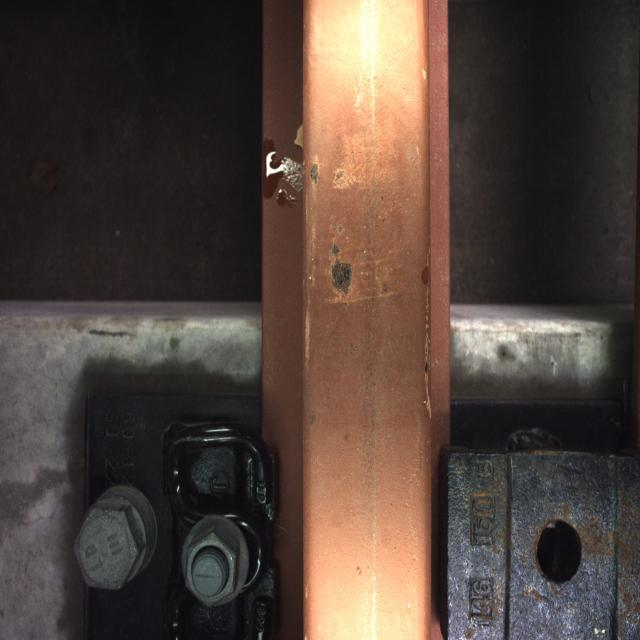scar: (304, 89, 418, 409)
